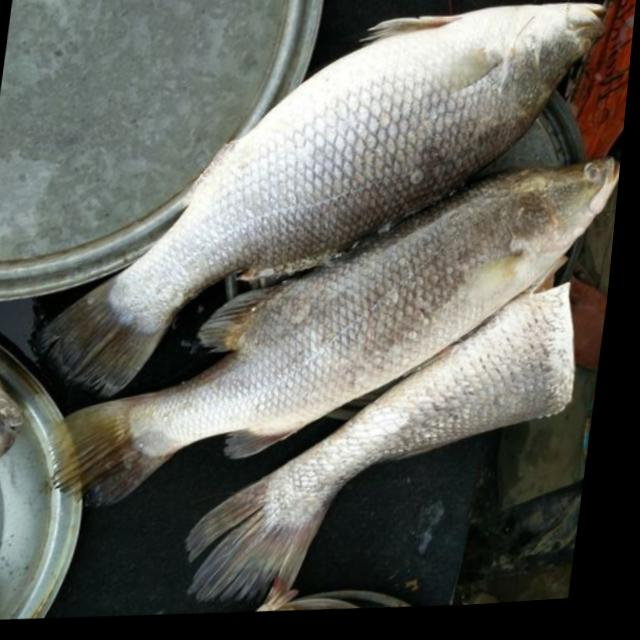Seabass: (20, 0, 616, 418), (42, 135, 623, 526)
